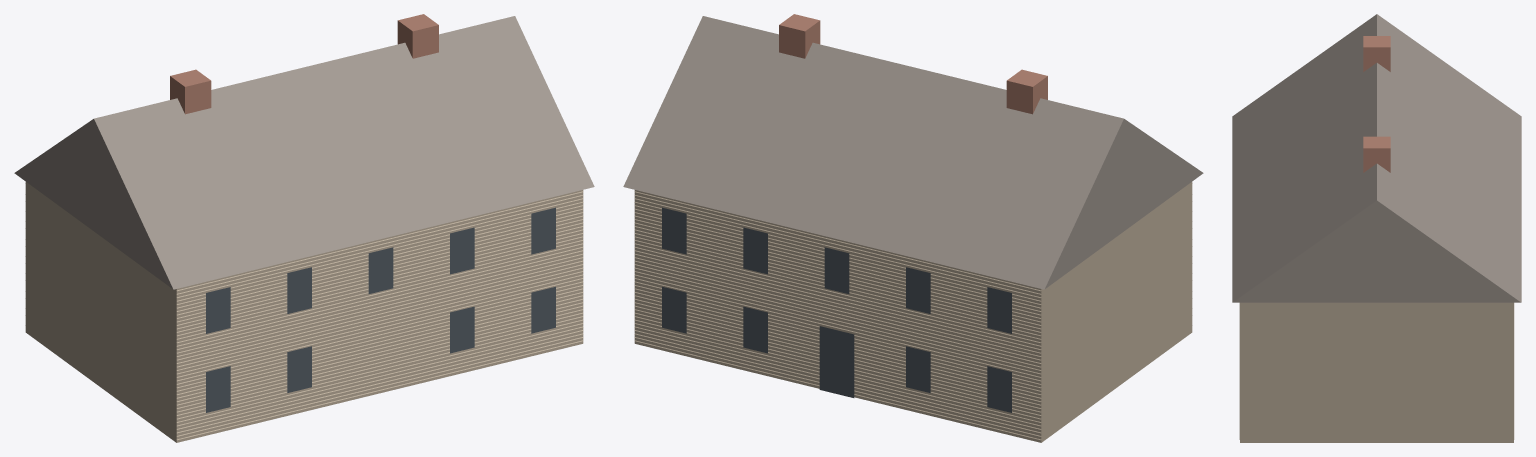
The model's file is exchange_coffee_house__frame_1834.glb.
The picture shows the model from 3 angles, left to right: view 1: azimuth 30°, elevation 25°; view 2: azimuth 150°, elevation 25°; view 3: azimuth 270°, elevation 25°; orthographic projection. The views are drawn at different scales.
Parts seen in each view (by area): view 1: exchange_coffee_house__frame_1834; view 2: exchange_coffee_house__frame_1834; view 3: exchange_coffee_house__frame_1834.
Boxes of the visible parts, left/top/right/bottom form: exchange_coffee_house__frame_1834: left=14, top=14, right=594, bottom=442; exchange_coffee_house__frame_1834: left=623, top=14, right=1203, bottom=442; exchange_coffee_house__frame_1834: left=1232, top=14, right=1521, bottom=442.
Bounding box in the file's own units: 14.5 × 9.46 × 9.5.
